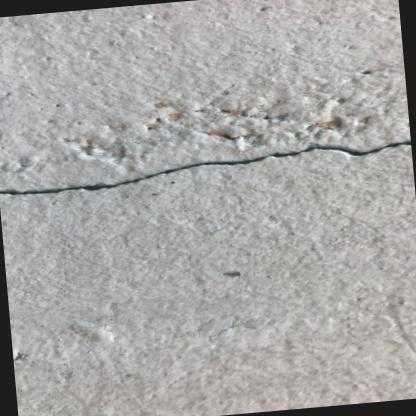crack: (0, 140, 411, 196)
